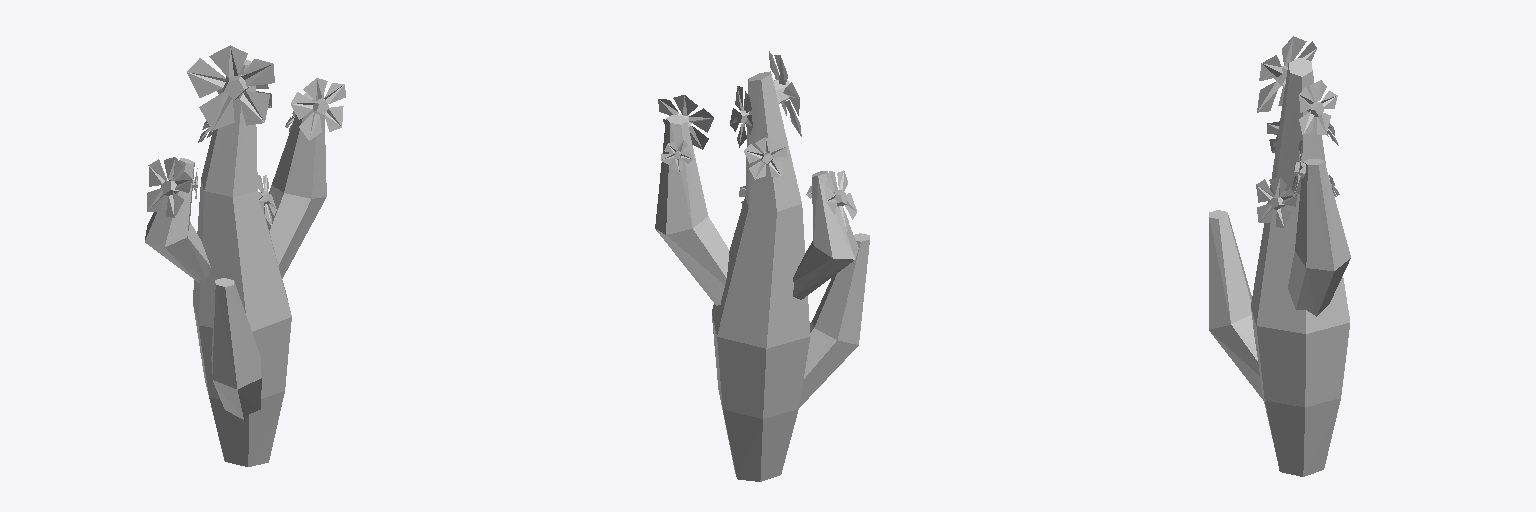
The model's file is BG_Cactus_Flower.obj.
The picture shows the model from 3 angles: view 1: azimuth 30°, elevation 25°; view 2: azimuth 150°, elevation 25°; view 3: azimuth 270°, elevation 25°; orthographic projection.
Visible parts, largest first — view 1: Flowers; view 2: Flowers; view 3: Flowers.
Part boxes in pixels (bbox=[...]): Flowers: bbox=[145, 45, 345, 466]; Flowers: bbox=[655, 51, 869, 481]; Flowers: bbox=[1209, 36, 1350, 476].
Size of the model in its own units: 33.94 by 68.61 by 21.07.